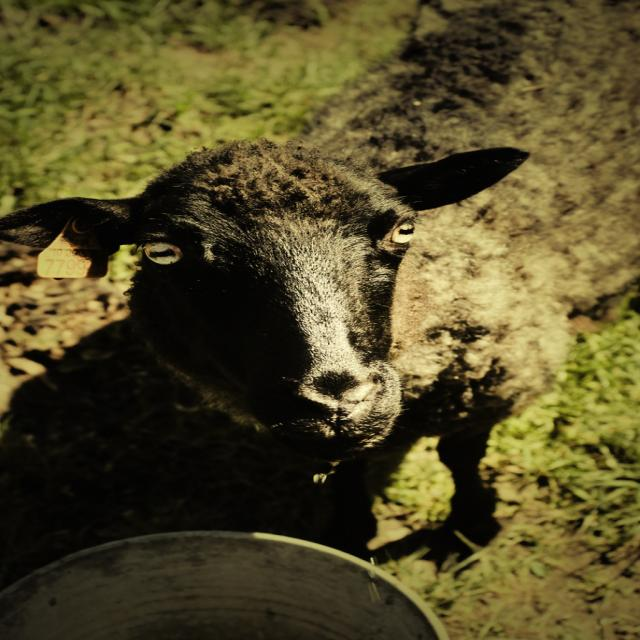Sheep: (0, 0, 639, 537)
